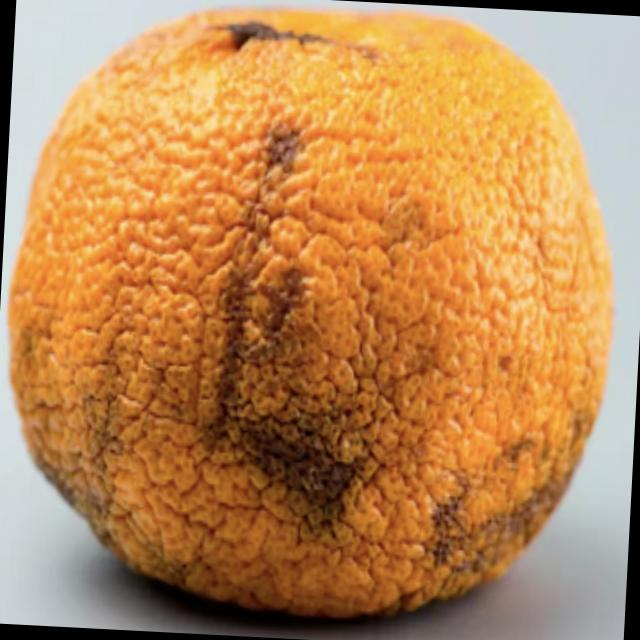rotten-orange: (0, 0, 628, 630)
